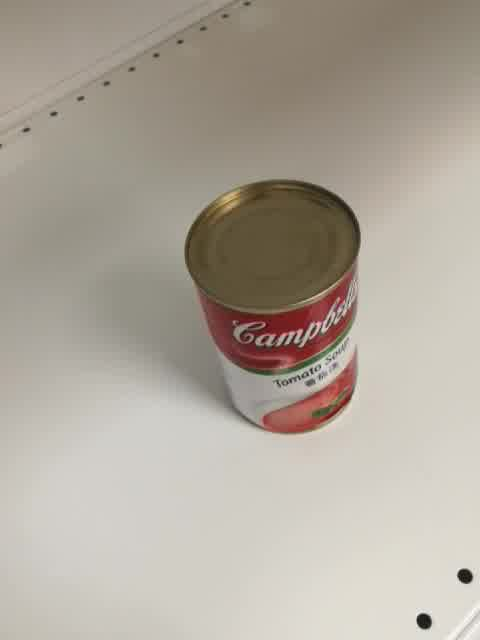tomatosoup: (183, 178, 360, 434)
